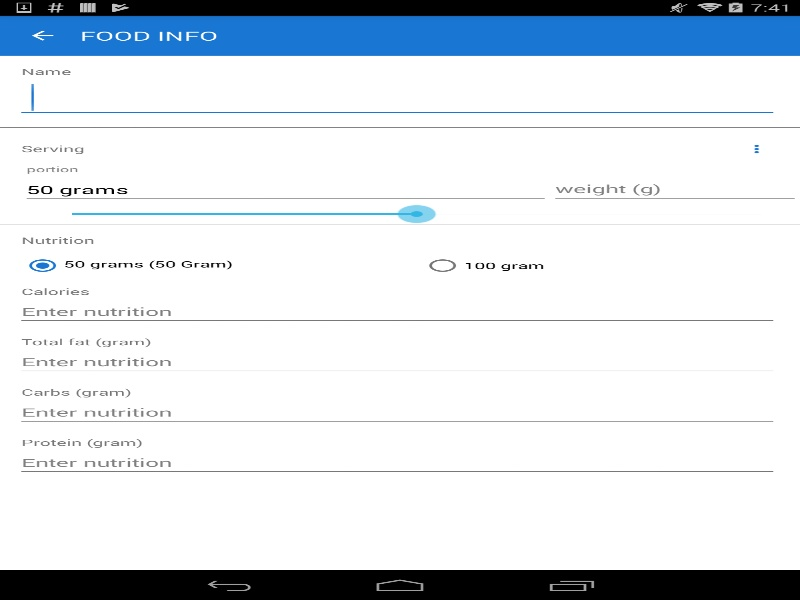Button: (0, 18, 74, 53)
Input: (16, 77, 778, 117), (16, 347, 778, 376), (16, 297, 778, 325), (16, 398, 778, 426), (16, 448, 778, 476), (21, 175, 550, 204), (550, 175, 800, 204)
